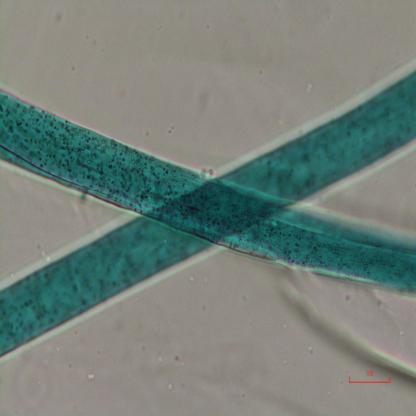Background material: (49, 7, 67, 26), (309, 81, 318, 98), (82, 372, 95, 383), (166, 377, 175, 392), (154, 20, 165, 32), (166, 121, 175, 135), (173, 355, 182, 363), (76, 199, 82, 208), (161, 358, 163, 363)
Microfibre: (0, 66, 416, 360), (0, 87, 416, 297)
